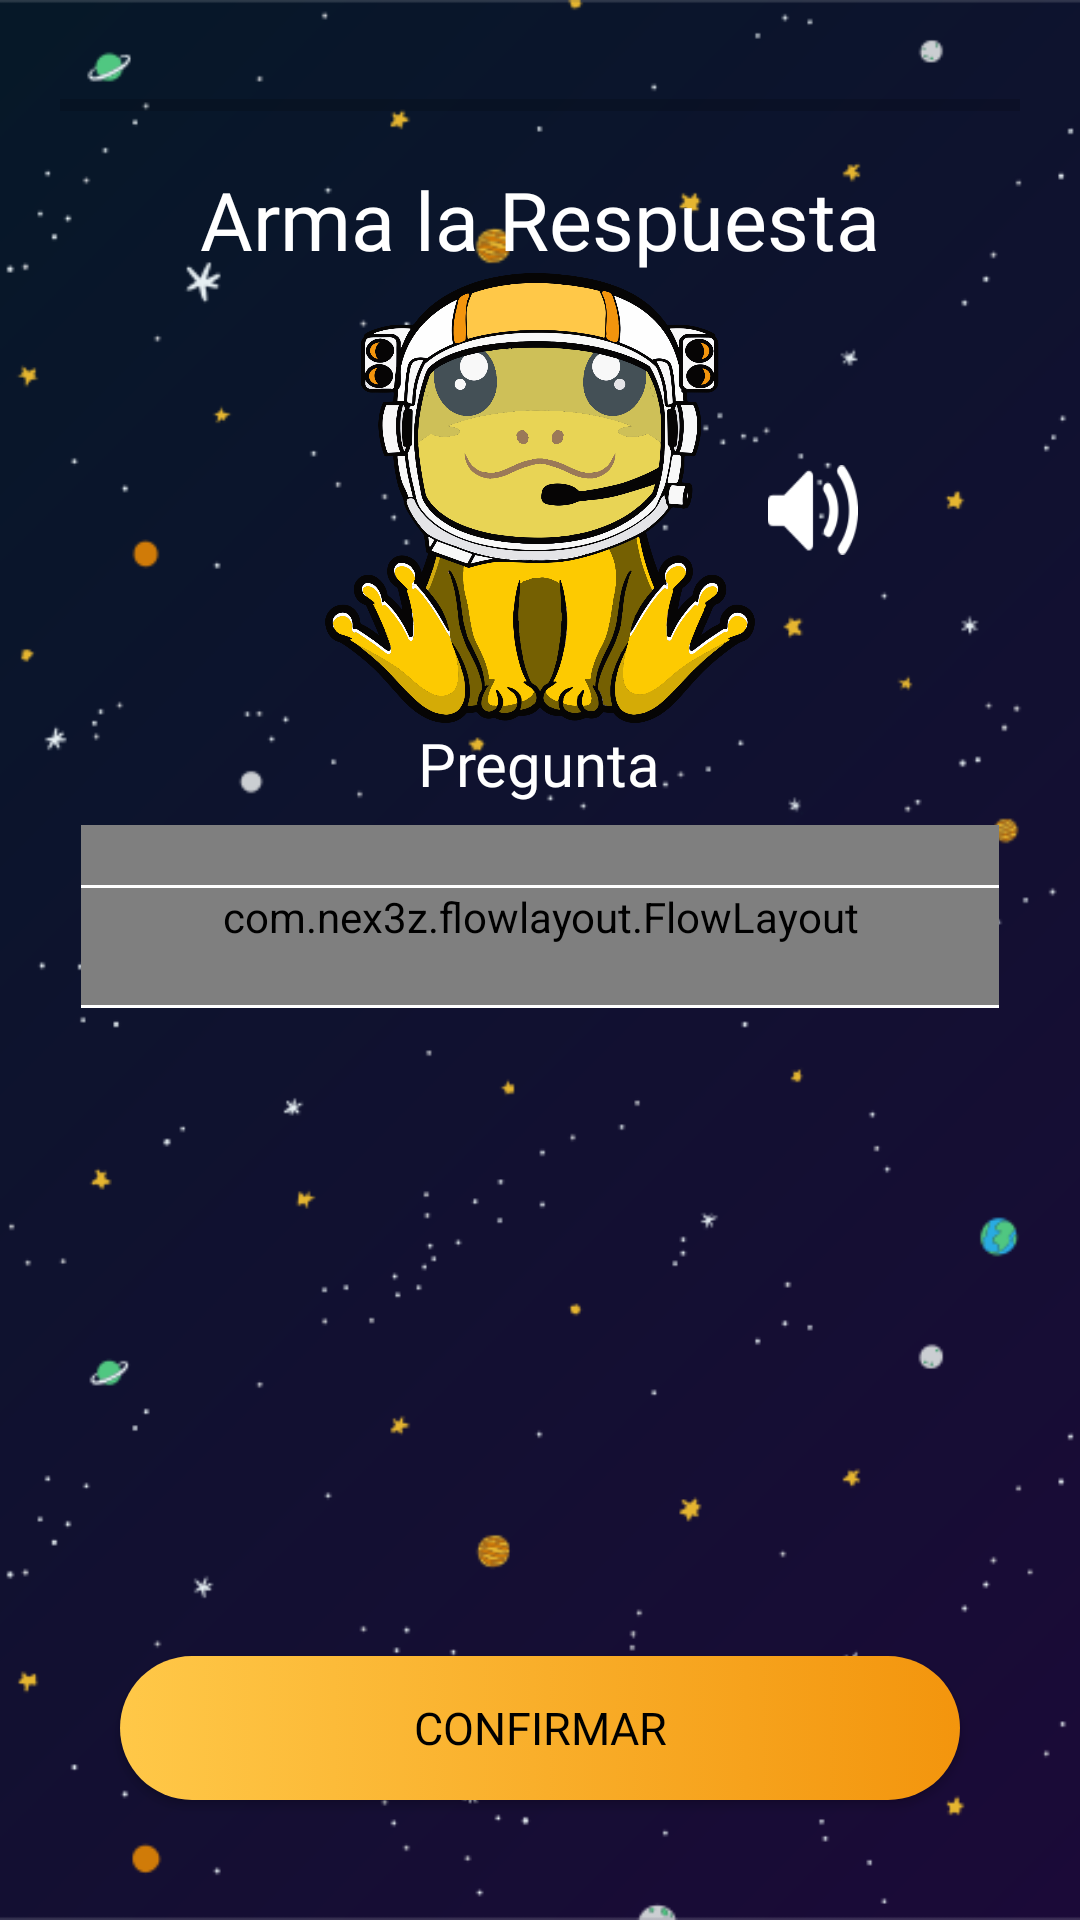

Icons on this 1080 x 1920 Android screen, each with the point to tap as [x,y]:
audio blanco: [813,510]
